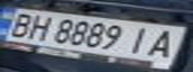8: (48, 16, 75, 46), (84, 20, 109, 51), (66, 18, 90, 47)
9: (103, 21, 130, 53)
A: (139, 27, 190, 61)
B: (0, 10, 39, 38)
H: (21, 12, 57, 42)
I: (124, 24, 160, 55)
